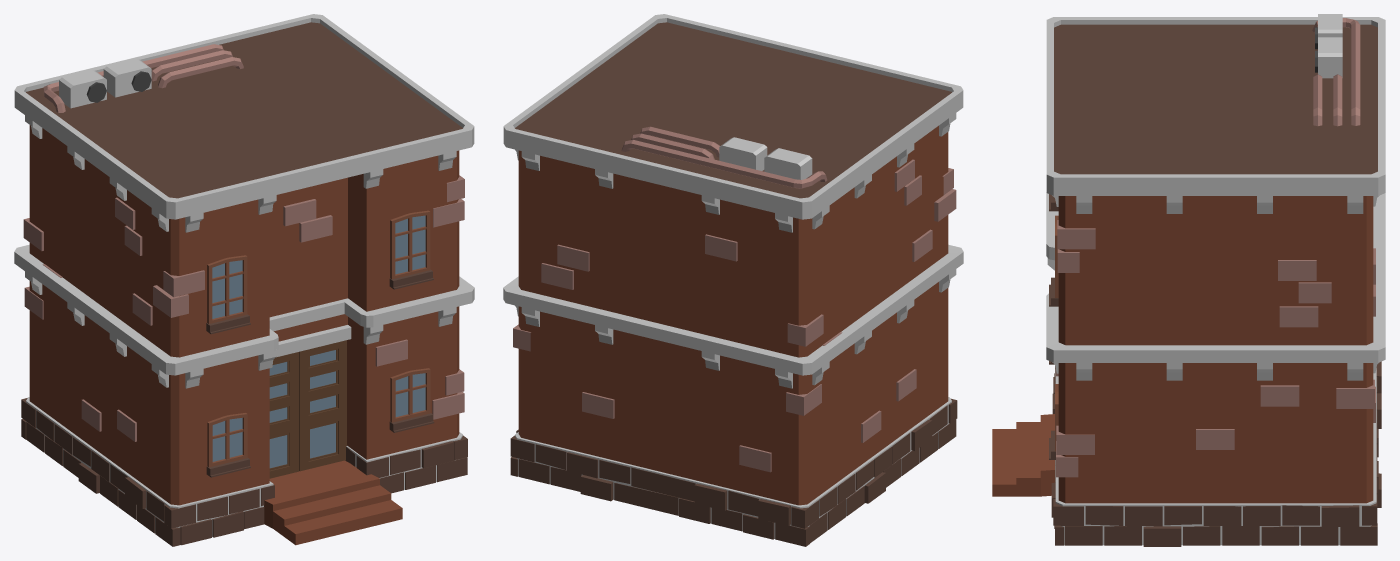
The model's file is two-story-center.glb.
3 renders of one model, left to right at view 1: azimuth 30°, elevation 25°; view 2: azimuth 150°, elevation 25°; view 3: azimuth 270°, elevation 25°, orthographic. The views are drawn at different scales.
Visible parts, largest first — view 1: 2Story_Center_Cube.029; view 2: 2Story_Center_Cube.029; view 3: 2Story_Center_Cube.029.
Boxes of the visible parts, box(x1,y1,x2,y2) form: 2Story_Center_Cube.029: box(14, 14, 474, 546); 2Story_Center_Cube.029: box(503, 14, 963, 546); 2Story_Center_Cube.029: box(992, 14, 1385, 546).
Size of the model in its own units: 2.42 by 2.74 by 2.5.
1 material, 1 textured.
